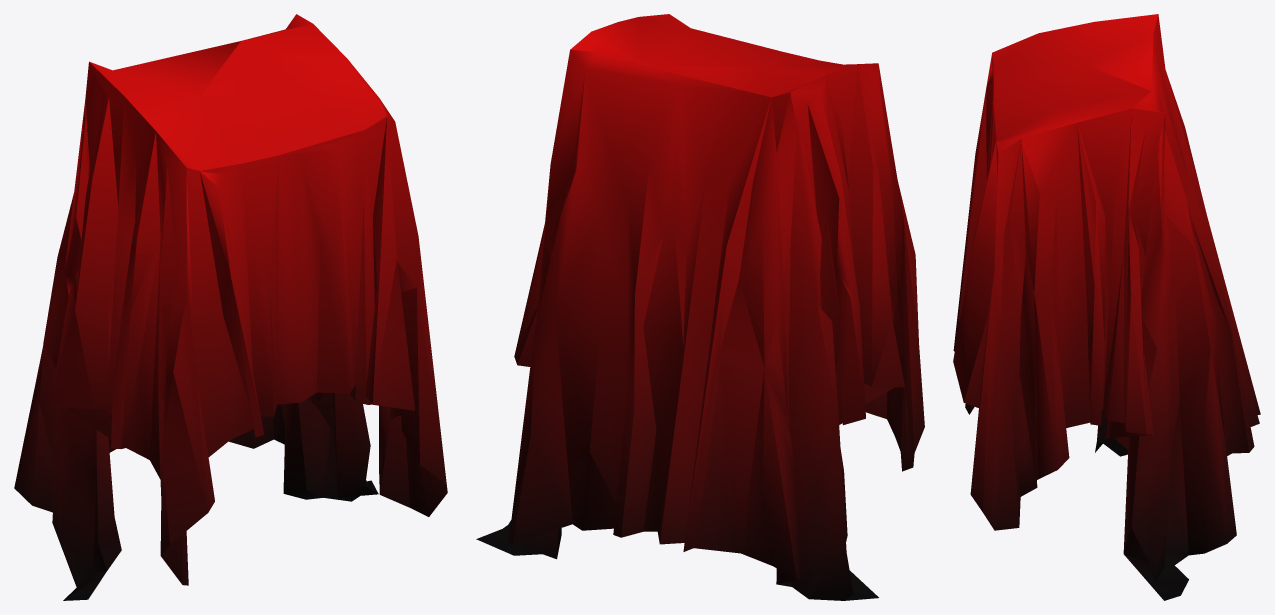
File: SM_PolyCab_Cover_LOD.fbx
The picture shows the model from 3 angles, left to right: view 1: azimuth 30°, elevation 25°; view 2: azimuth 150°, elevation 25°; view 3: azimuth 270°, elevation 25°; orthographic projection. The views are drawn at different scales.
Parts seen in each view (by area): view 1: normal1; view 2: normal1; view 3: normal1.
Part boxes in pixels (left/top/right/bottom): normal1: left=14, top=14, right=447, bottom=600; normal1: left=476, top=14, right=924, bottom=600; normal1: left=953, top=14, right=1260, bottom=600.
Bounding box in the file's own units: 133 × 184 × 112.
